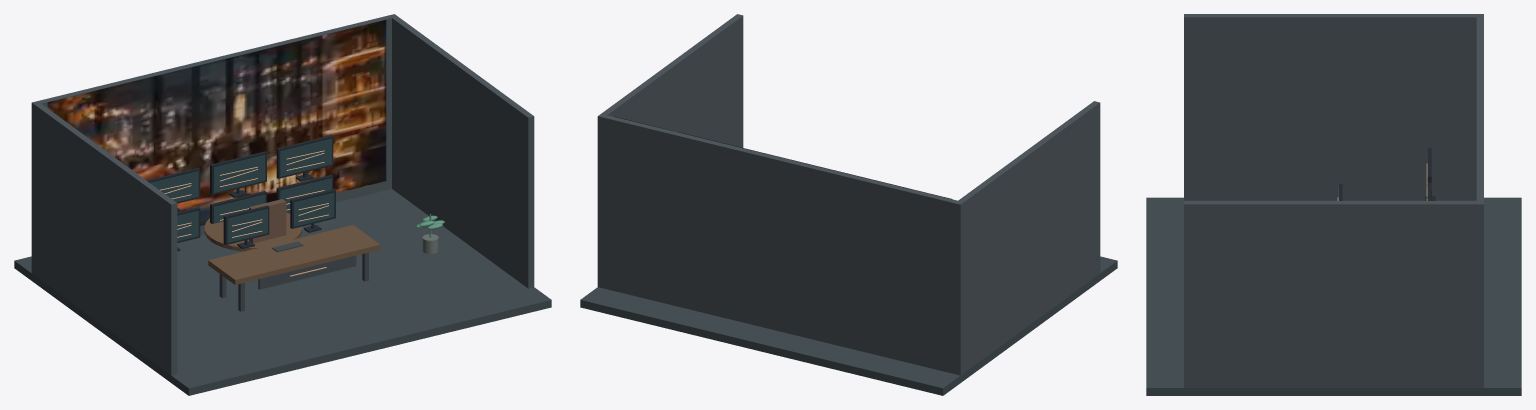
Rendered from sentiment.glb.
The picture shows the model from 3 angles, left to right: view 1: azimuth 30°, elevation 25°; view 2: azimuth 150°, elevation 25°; view 3: azimuth 270°, elevation 25°; orthographic projection. The views are drawn at different scales.
Parts seen in each view (by area): view 1: Room floor slab.004, Room cinematic backplate.004, Room left wall.004, Room right wall.004, Executive desk top.004, Room rear wall.004, Abstract market display.016, Abstract market display.017, Desk front fascia.004, Round collaboration table, Abstract market display.014, Abstract market display.013 (+8 smaller); view 2: Room rear wall.004, Room left wall.004, Room floor slab.004, Room right wall.004; view 3: Room right wall.004, Room left wall.004, Room floor slab.004, Room rear wall.004.
Part boxes in pixels (bbox=[...]): Room floor slab.004: bbox=[14, 189, 551, 395]; Room cinematic backplate.004: bbox=[47, 20, 386, 226]; Room left wall.004: bbox=[31, 102, 177, 375]; Room right wall.004: bbox=[392, 16, 534, 288]; Executive desk top.004: bbox=[208, 225, 380, 284]; Room rear wall.004: bbox=[33, 14, 397, 235]; Abstract market display.016: bbox=[213, 155, 265, 192]; Abstract market display.017: bbox=[280, 139, 331, 176]; Desk front fascia.004: bbox=[258, 255, 356, 289]; Round collaboration table: bbox=[204, 212, 301, 251]; Abstract market display.014: bbox=[294, 193, 334, 226]; Abstract market display.013: bbox=[227, 209, 267, 242]; Room rear wall.004: bbox=[597, 114, 963, 375]; Room left wall.004: bbox=[954, 101, 1100, 374]; Room floor slab.004: bbox=[580, 256, 1117, 395]; Room right wall.004: bbox=[598, 14, 743, 147]; Room right wall.004: bbox=[1184, 201, 1483, 387]; Room left wall.004: bbox=[1184, 14, 1483, 200]; Room floor slab.004: bbox=[1146, 197, 1521, 395]; Room rear wall.004: bbox=[1476, 14, 1483, 387].
Size of the model in its own units: 12 by 5.64 by 10.
11 materials, 1 textured.
